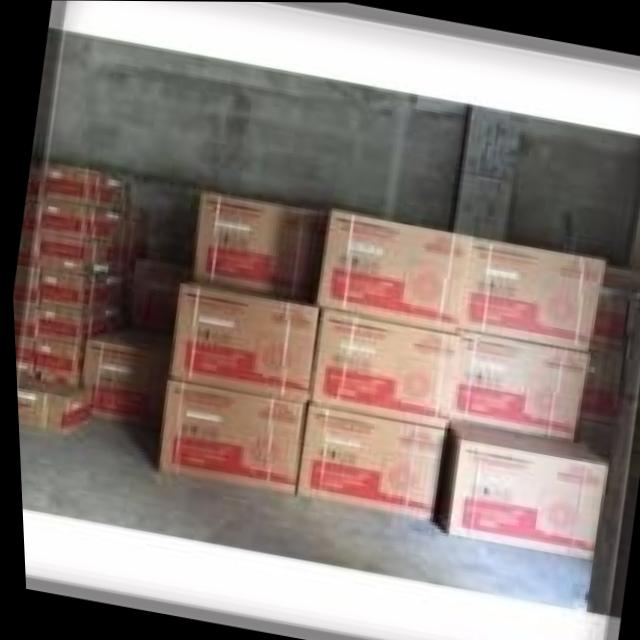box: (429, 419, 604, 562), (314, 208, 469, 333), (166, 280, 315, 402), (307, 310, 458, 427), (453, 235, 604, 350), (293, 404, 441, 521), (154, 380, 301, 495), (445, 326, 587, 439), (190, 190, 325, 302), (77, 327, 169, 428), (13, 375, 89, 433), (40, 165, 122, 212), (33, 269, 109, 317), (38, 202, 119, 245), (36, 232, 109, 275), (30, 308, 103, 345), (27, 341, 83, 376)
